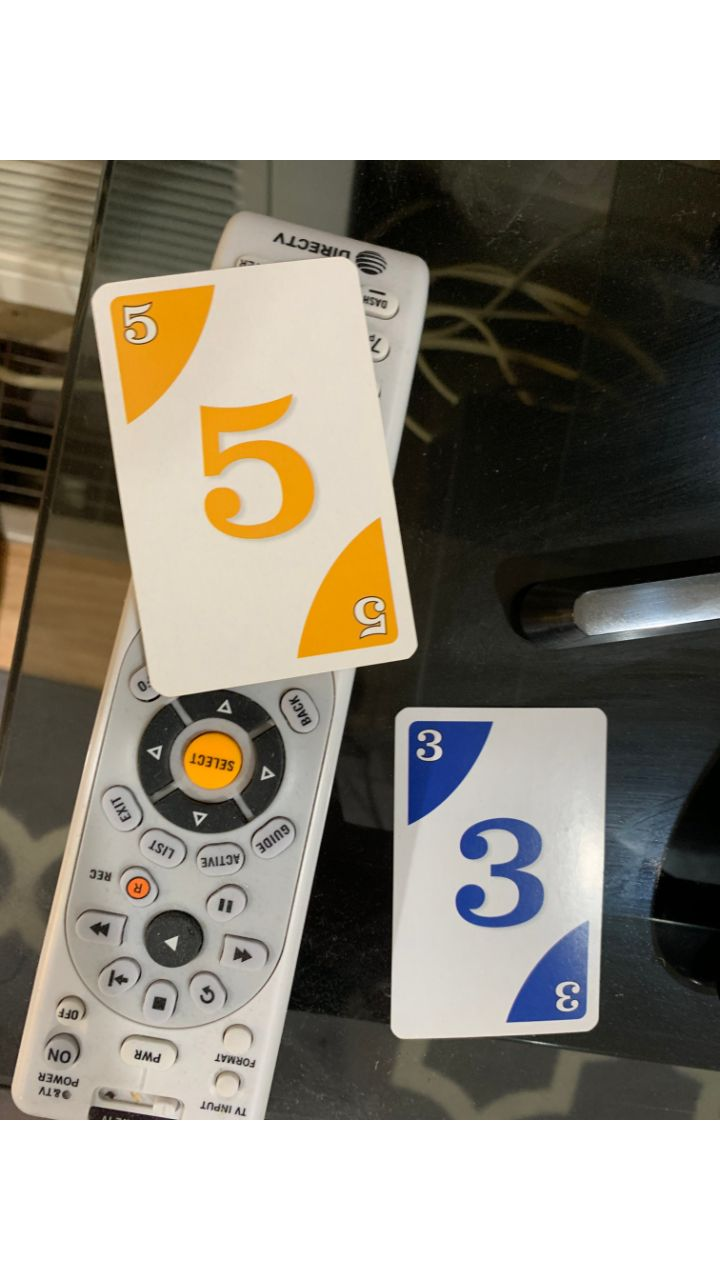five: (83, 244, 426, 699)
three: (381, 702, 614, 1045)
